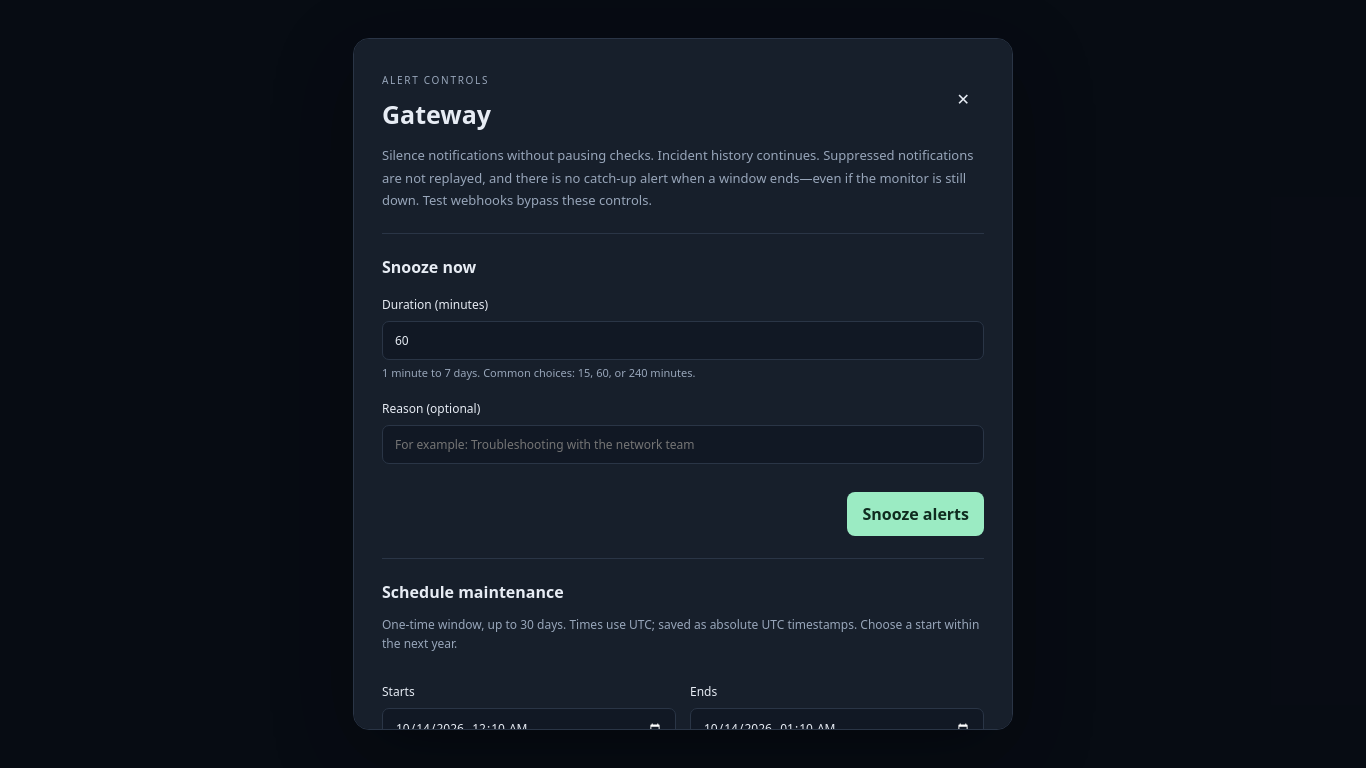
Scenario: maintenance and alert snoozing › snoozes only the chosen monitor with duration and reason
Replace the text in the number field with id "snooze-minutes" with "15" at (683, 340), box top-left (382, 321), bottom-right (984, 360)
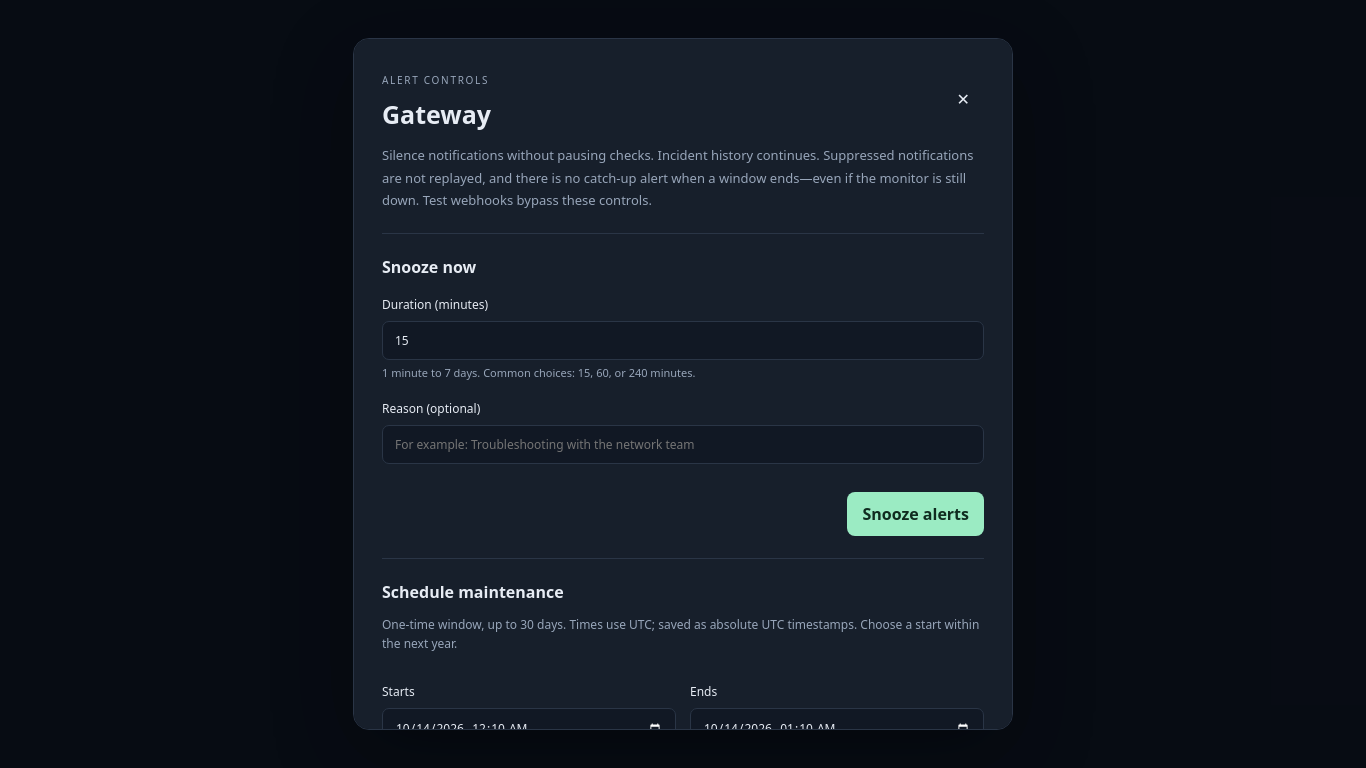
Type "Investigating" into the field with id "snooze-reason" at (683, 444), box top-left (382, 425), bottom-right (984, 464)
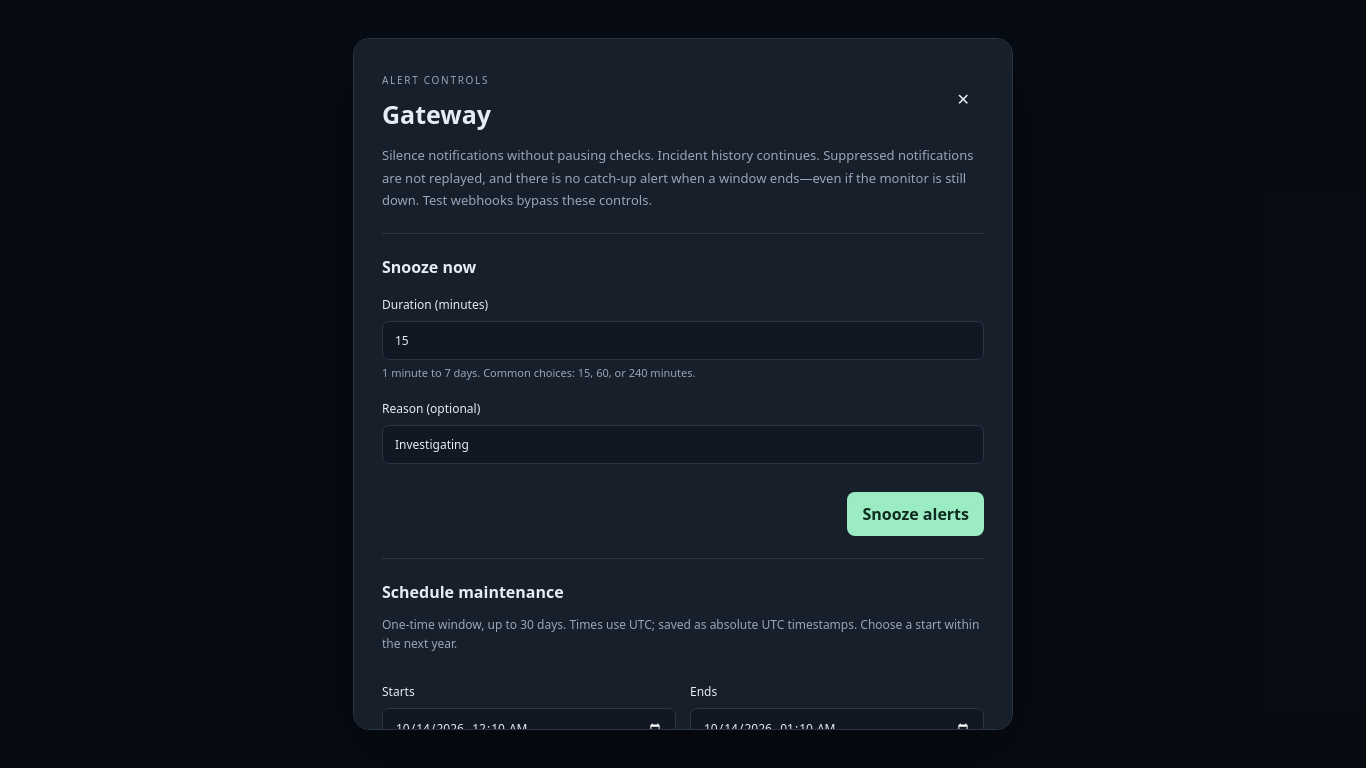
Submit the form that starts with "Snooze now", box top-left (382, 233), bottom-right (984, 536)
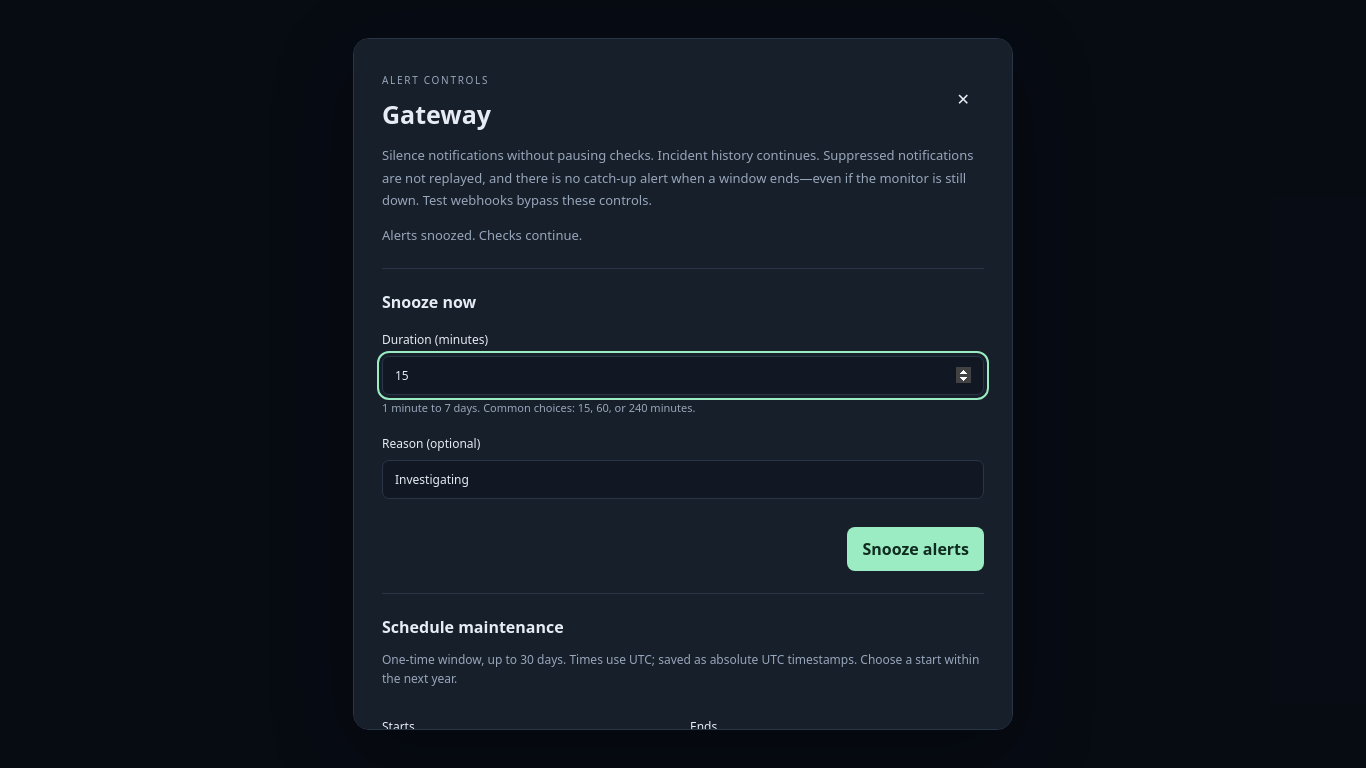
expect the message "Alerts snoozed. Checks continue." is shown: met, box top-left (382, 226), bottom-right (582, 244)
